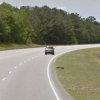Car: (41, 41, 61, 58)
